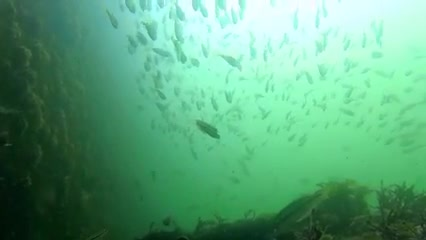smallfish: (194, 118, 230, 148)
